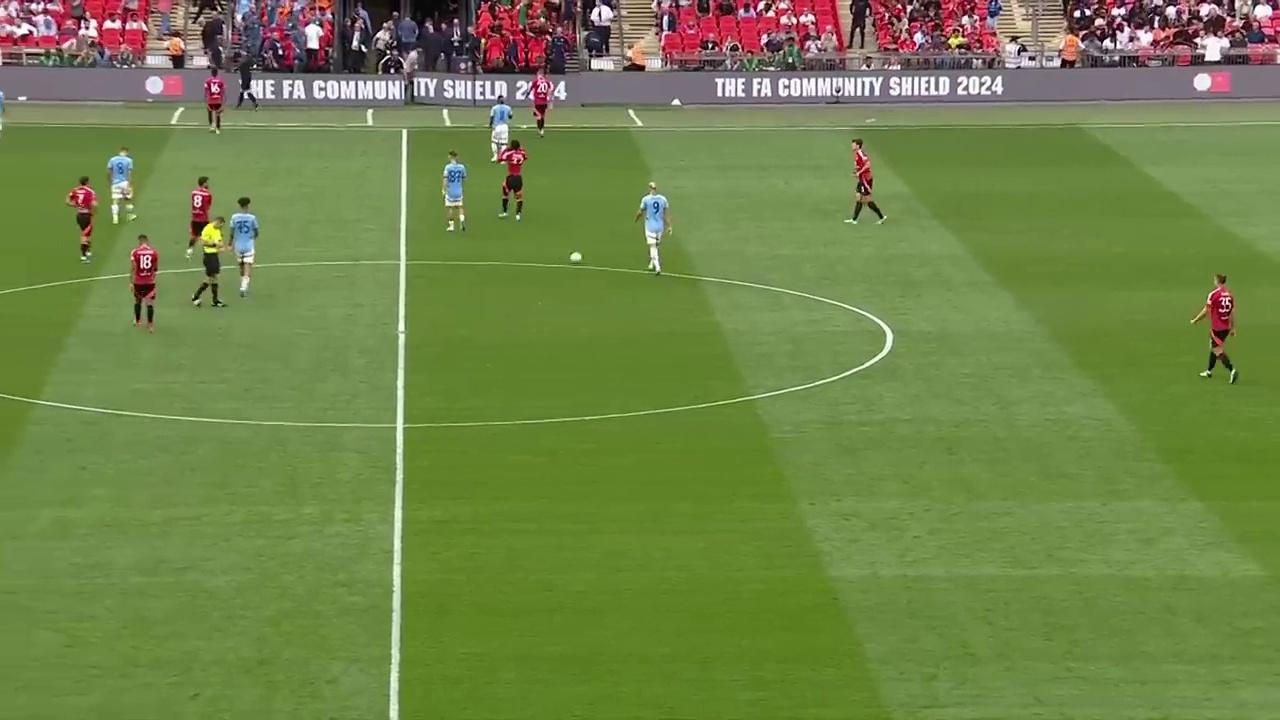ball: (569, 248, 583, 265), (238, 275, 249, 296)
player: (1189, 272, 1238, 383), (634, 181, 672, 275), (225, 197, 260, 298), (844, 139, 885, 225), (129, 233, 159, 333), (65, 175, 98, 262), (497, 140, 528, 221), (106, 146, 136, 224), (441, 150, 468, 233), (187, 176, 213, 255), (487, 100, 512, 160), (203, 69, 225, 134), (529, 75, 551, 137)
referee: (190, 218, 226, 309)
